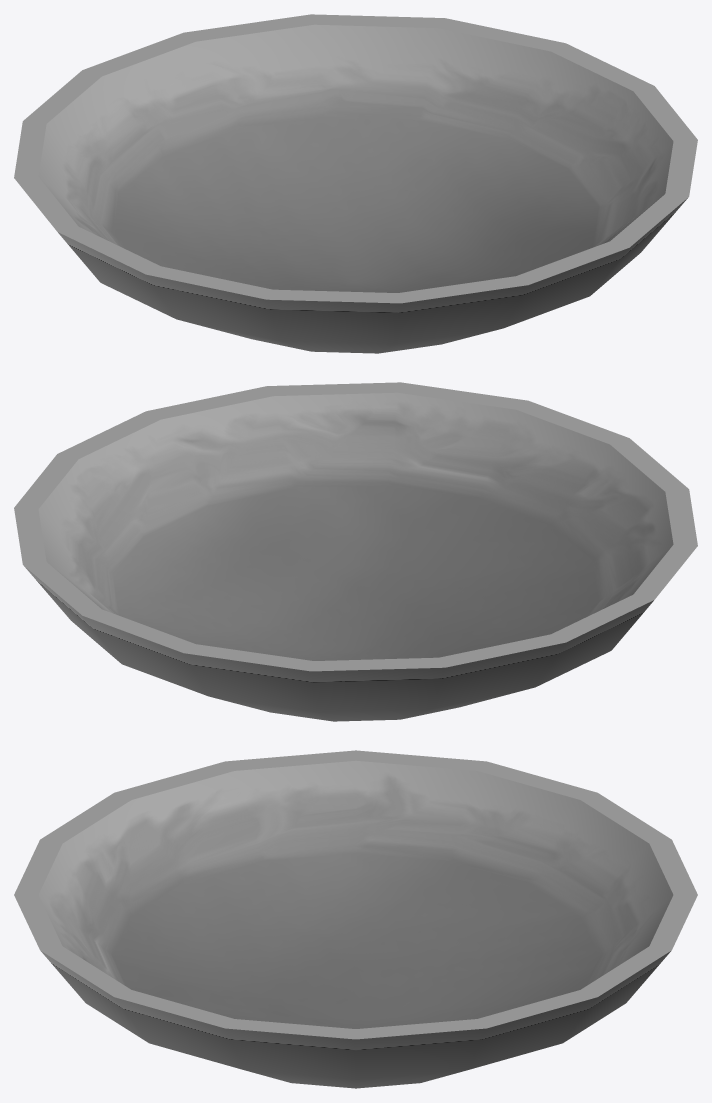
The model's file is FountainTop.fbx.
The picture shows the model from 3 angles, top to bottom: view 1: azimuth 30°, elevation 25°; view 2: azimuth 150°, elevation 25°; view 3: azimuth 270°, elevation 25°; orthographic projection.
Visible parts, largest first — view 1: Top; view 2: Top; view 3: Top.
Boxes of the visible parts, x1,y1,x2,y2 form: Top: (14,14,697,353); Top: (14,382,697,721); Top: (14,750,697,1088).
Size of the model in its own units: 120 by 23.62 by 120.
1 material, 1 textured.
